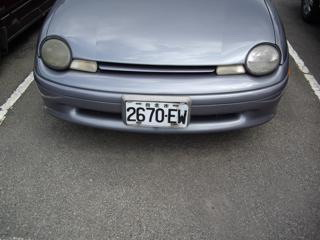plate: (123, 100, 190, 128)
